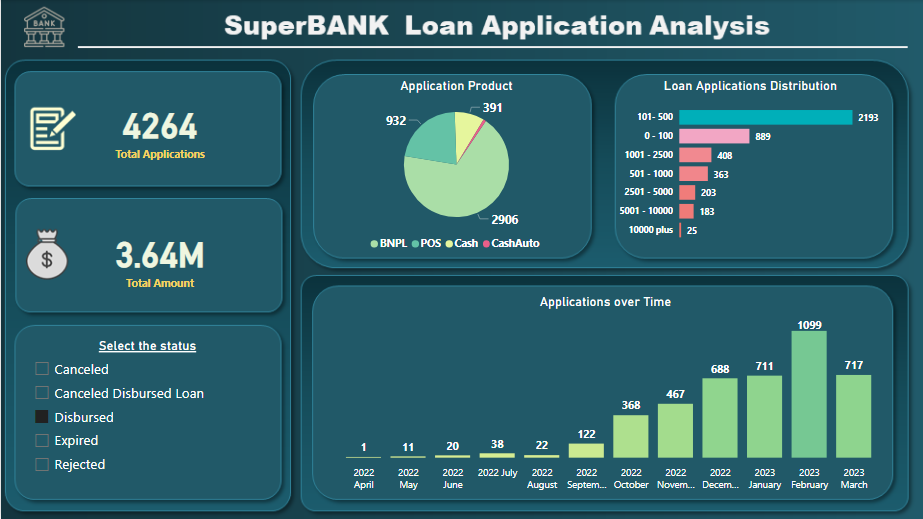

The page's visual inventory and layout, read from the dashboard file:
{"tool":"powerbi","page":{"name":"Loans by Status","canvas":[1280,720],"ordinal":1},"visuals":[{"type":"clusteredBarChart","title":"Loan Applications Distribution ","fields":{"Category":["Dataset.AMount Category"],"Y":["CountNonNull(Dataset.Application ID)"]},"box":[851.8,108.2,376,237.2],"z":0},{"type":"card","fields":{"Values":["Dataset.Total Applications"]},"box":[69.4,124.9,302.4,108.2],"z":1000},{"type":"slicer","title":"Select the status","fields":{"Values":["Dataset.Status"]},"box":[34.7,468.9,337.1,198.4],"z":2000},{"type":"lineStackedColumnComboChart","title":"Applications over Time","fields":{"Category":["Dataset.Timestamp.Variation.Date Hierarchy.Year","Dataset.Timestamp.Variation.Date Hierarchy.Month"],"Y":["Dataset.Total Applications"]},"box":[439.8,407.9,797.7,280.2],"z":3000},{"type":"card","fields":{"Values":["Sum(Dataset.Amount)"]},"box":[69.4,301,302.4,113.8],"z":4000},{"type":"pieChart","title":"Application Product","fields":{"Category":["Dataset.Product"],"Y":["CountNonNull(Dataset.Application ID)"]},"box":[420.3,108.2,423.1,249.7],"z":5000}]}

Visuals, with their boxes in screenshot pixels (x1, y1, x2, y2), scaled from the page's 1280x720 canvas onto the 923x519 screenshot:
"Loan Applications Distribution " clusteredBarChart: bbox=[614, 78, 885, 249]
card - Dataset.Total Applications: bbox=[50, 90, 268, 168]
"Select the status" slicer: bbox=[25, 338, 268, 481]
"Applications over Time" lineStackedColumnComboChart: bbox=[317, 294, 892, 496]
card - Sum(Dataset.Amount): bbox=[50, 217, 268, 299]
"Application Product" pieChart: bbox=[303, 78, 608, 258]
